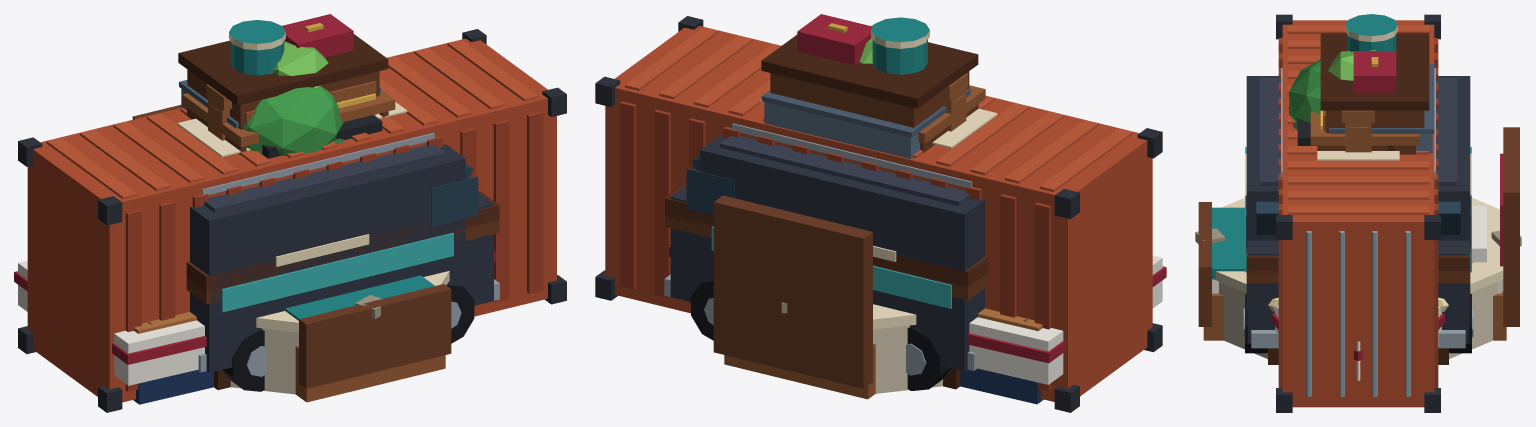
File: night-job-kit.glb
3 views of the same model, side by side, from view 1: azimuth 30°, elevation 25°; view 2: azimuth 150°, elevation 25°; view 3: azimuth 270°, elevation 25° (orthographic). The views are drawn at different scales.
Parts seen in each view (by area): view 1: prop_container, prop_van, prop_bed, obj_closet, prop_boat, prop_tree, prop_roulette, prop_fountain, prop_bookcase, prop_server, obj_window; view 2: prop_container, prop_van, prop_bed, obj_closet, prop_boat, prop_locker, prop_roulette, prop_fountain, prop_bookcase, obj_window; view 3: prop_container, prop_van, obj_closet, prop_bed, prop_fountain, prop_roulette, prop_tree, prop_bookcase, prop_locker, obj_window, obj_door, prop_boat (+1 smaller).
Boxes of the visible parts, x1,y1,x2,y2 form: prop_container: (18, 29, 566, 412); prop_van: (190, 133, 499, 391); prop_bed: (132, 105, 451, 402); obj_closet: (178, 14, 388, 129); prop_boat: (14, 251, 495, 404); prop_tree: (243, 41, 344, 155); prop_roulette: (186, 191, 499, 389); prop_fountain: (230, 271, 449, 394); prop_bookcase: (182, 89, 395, 154); prop_server: (262, 115, 382, 158); obj_window: (206, 84, 231, 140); prop_container: (595, 16, 1162, 412); prop_van: (664, 123, 984, 390); prop_bed: (713, 195, 875, 399); obj_closet: (761, 14, 978, 127); prop_boat: (669, 245, 1166, 404); prop_locker: (761, 89, 970, 158); prop_roulette: (665, 183, 988, 389); prop_fountain: (781, 302, 942, 393); prop_bookcase: (918, 85, 985, 152); obj_window: (941, 73, 967, 131); prop_container: (1276, 14, 1440, 412); prop_van: (1243, 68, 1473, 353); obj_closet: (1320, 14, 1429, 132); prop_bed: (1198, 127, 1519, 340); prop_fountain: (1195, 198, 1521, 358); prop_roulette: (1246, 242, 1470, 364); prop_tree: (1289, 50, 1376, 129); prop_bookcase: (1310, 111, 1419, 154); prop_locker: (1329, 64, 1434, 153); obj_window: (1342, 110, 1374, 152); obj_door: (1348, 126, 1368, 152); prop_boat: (1272, 306, 1444, 380).
Size of the model in its own units: 2.98 by 2.12 by 1.98.
